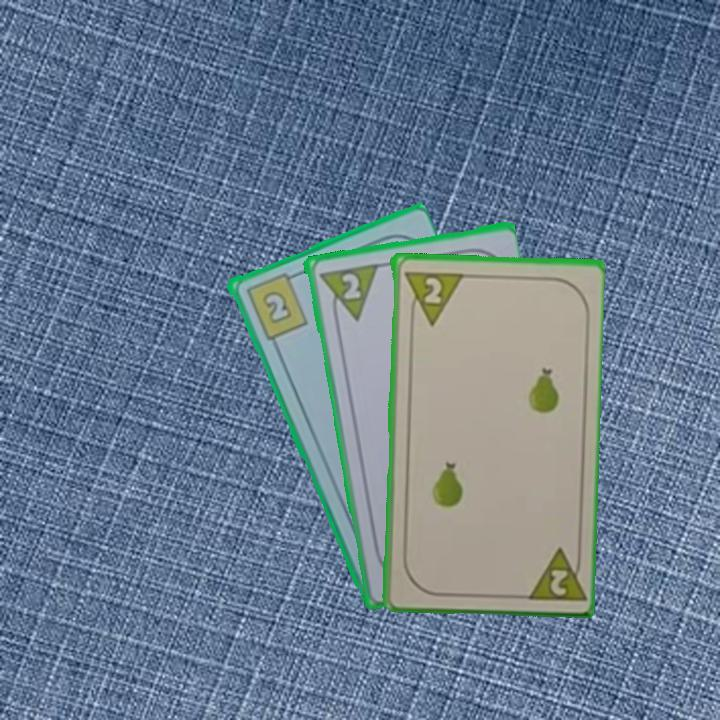2b: (241, 269, 310, 342)
2p: (520, 543, 585, 604), (337, 269, 364, 302), (418, 273, 444, 306)
